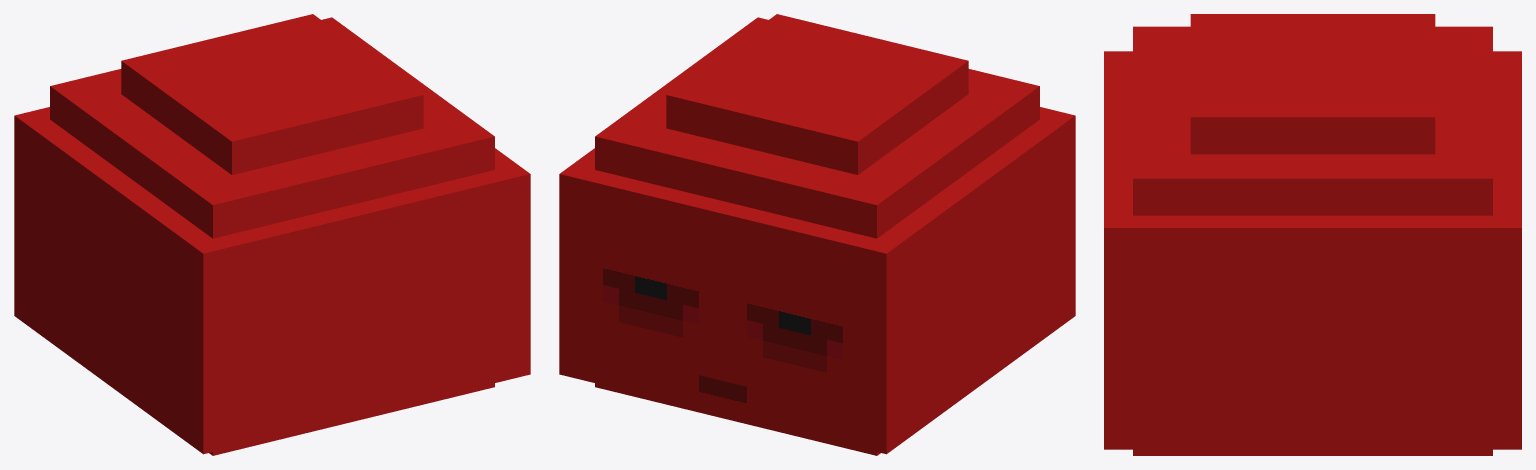
Rendered from Updated Red Slime.fbx.
3 views of the same model, side by side, from view 1: azimuth 30°, elevation 25°; view 2: azimuth 150°, elevation 25°; view 3: azimuth 270°, elevation 25° (orthographic). The views are drawn at different scales.
Parts seen in each view (by area): view 1: cuboid; view 2: cuboid; view 3: cuboid.
Part boxes in pixels (<box>): cuboid: <box>14,14,530,455</box>; cuboid: <box>559,14,1075,455</box>; cuboid: <box>1104,14,1521,455</box>.
Size of the model in its own units: 64.02 by 53.12 by 64.02.
1 material, 1 textured.
